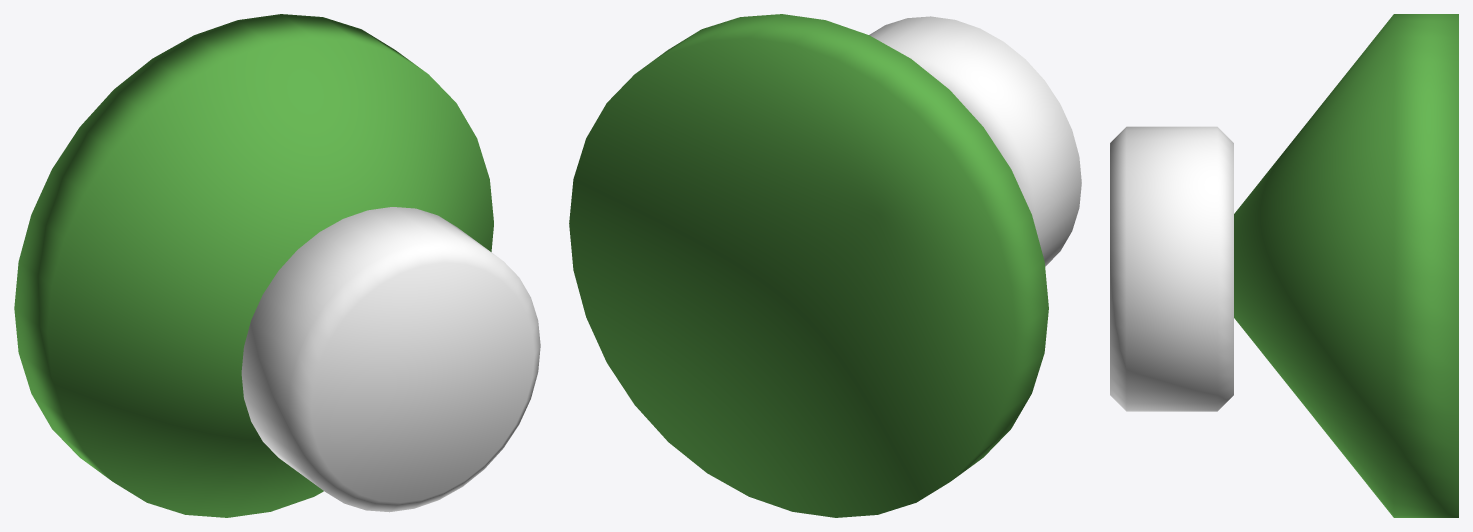
File: item-puke-top.glb
3 renders of one model, left to right at view 1: azimuth 30°, elevation 25°; view 2: azimuth 150°, elevation 25°; view 3: azimuth 270°, elevation 25°, orthographic. The views are drawn at different scales.
Bounding box in the file's own units: 5.77 × 5.77 × 3.99.
